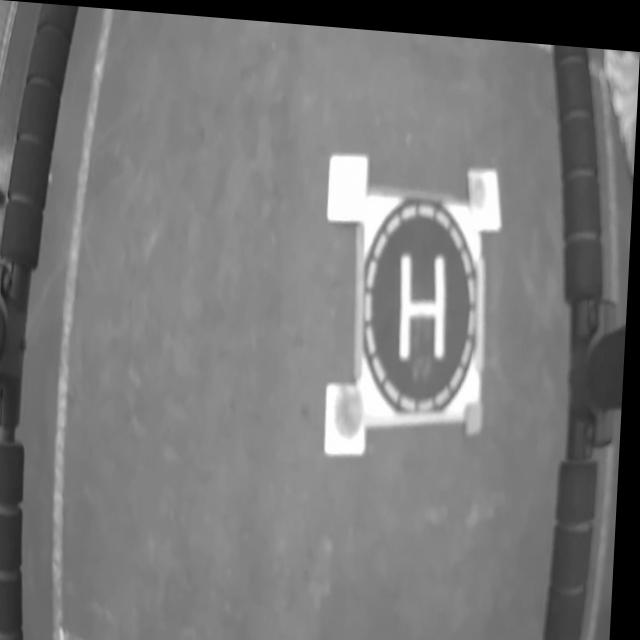Helipad: (402, 246, 449, 354)
